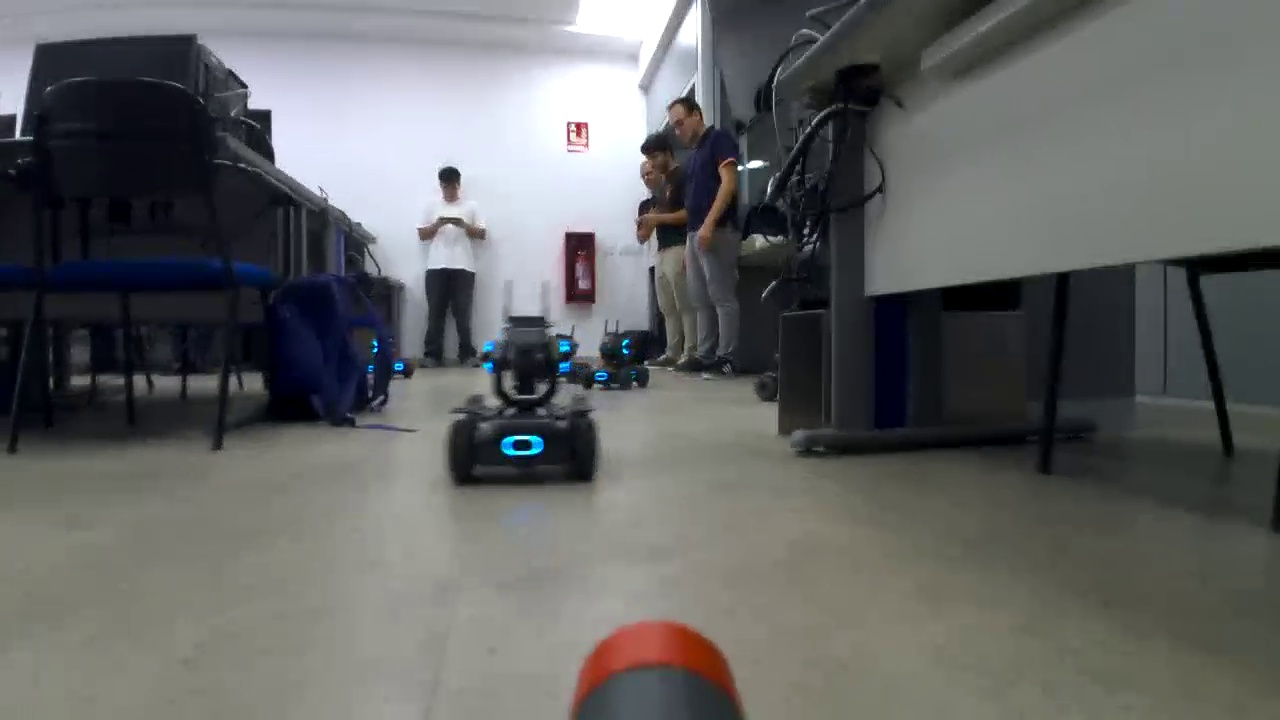robot: (445, 313, 603, 496), (585, 328, 652, 397), (540, 328, 598, 397), (357, 335, 418, 382)
